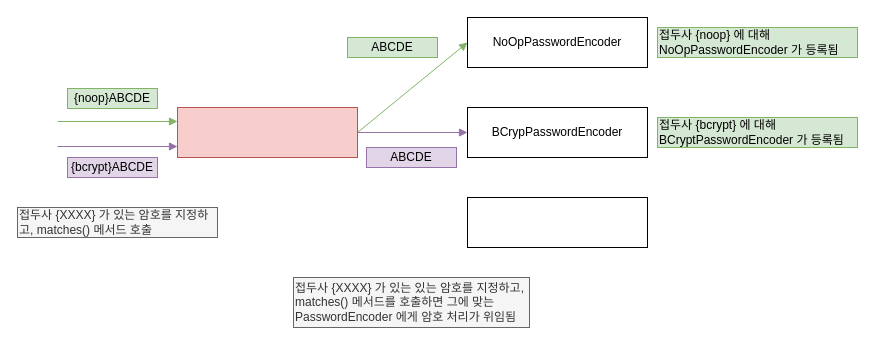
The diagram is 875 pixels wide and 345 high, and some of its shapes have lost their labels. The box of each missing label's shape, as (x1, y1, x2, y2) in pixels:
DelegatingPasswordEncoder: (176, 106, 358, 158)
SCrypPasswordEncoder: (466, 196, 648, 248)
